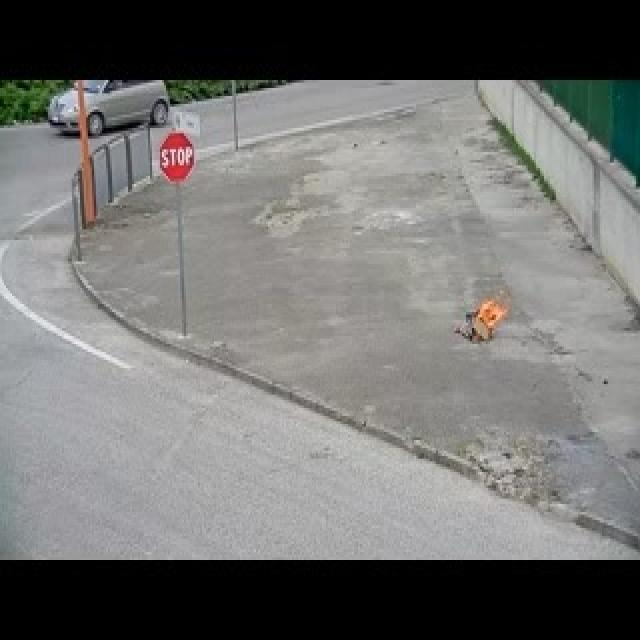fire: (478, 299, 512, 330)
